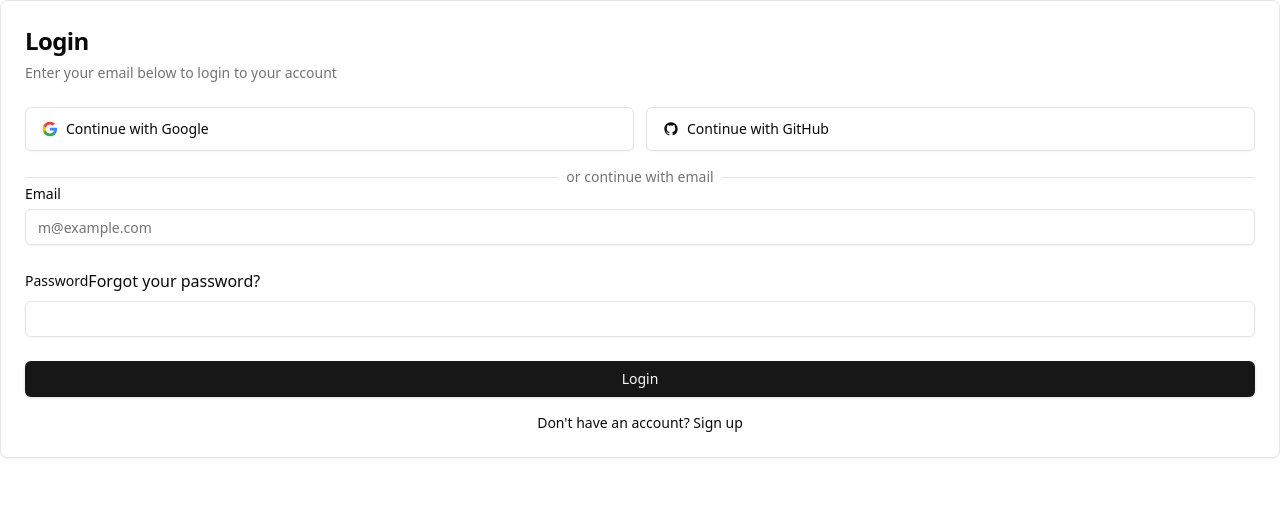
Scenario: LoginForm › shows generic error for non-Error exceptions
The width and height of the screenshot is (1280, 519).
In the field labelled "Email": (640, 227) [25,209,1255,245], type "user@example.com"
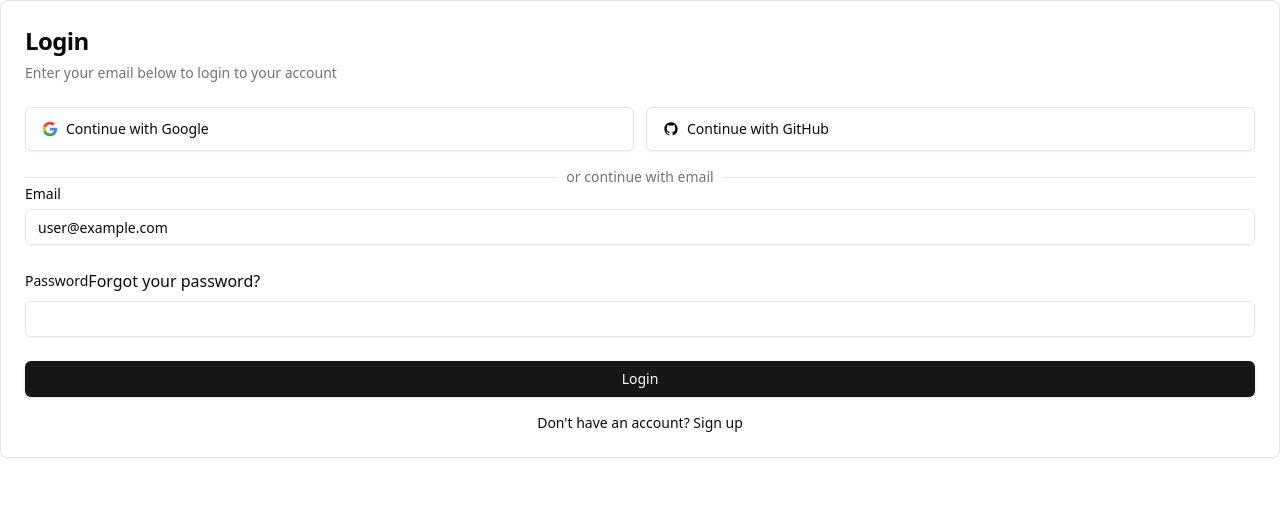
In the password field labelled "Password": (640, 319) [25,301,1255,337], type "password123"
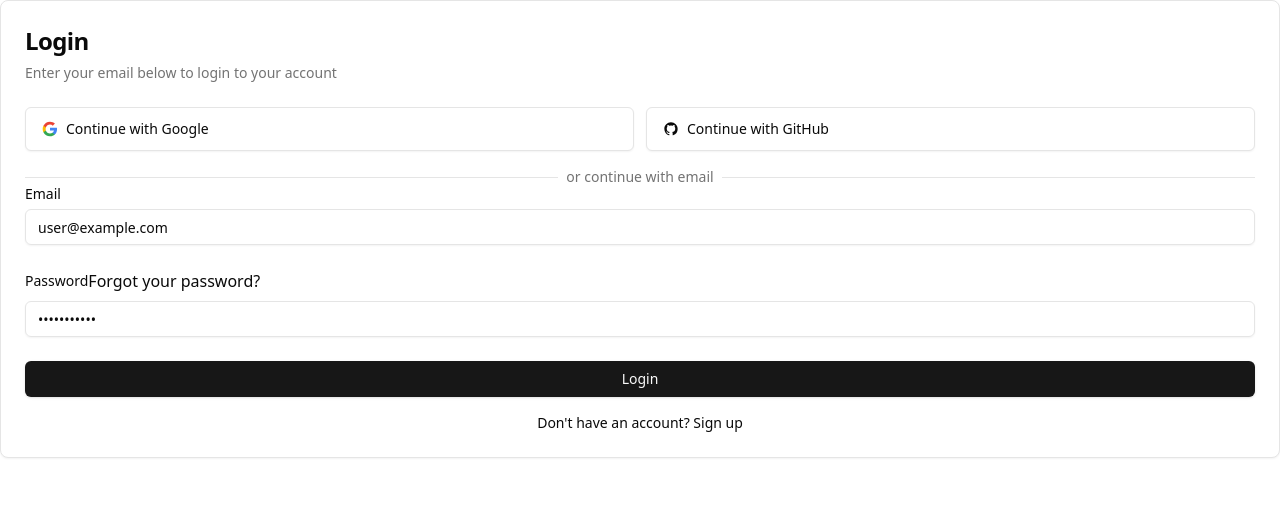
Click the button "Login": (640, 379) [25,361,1255,397]
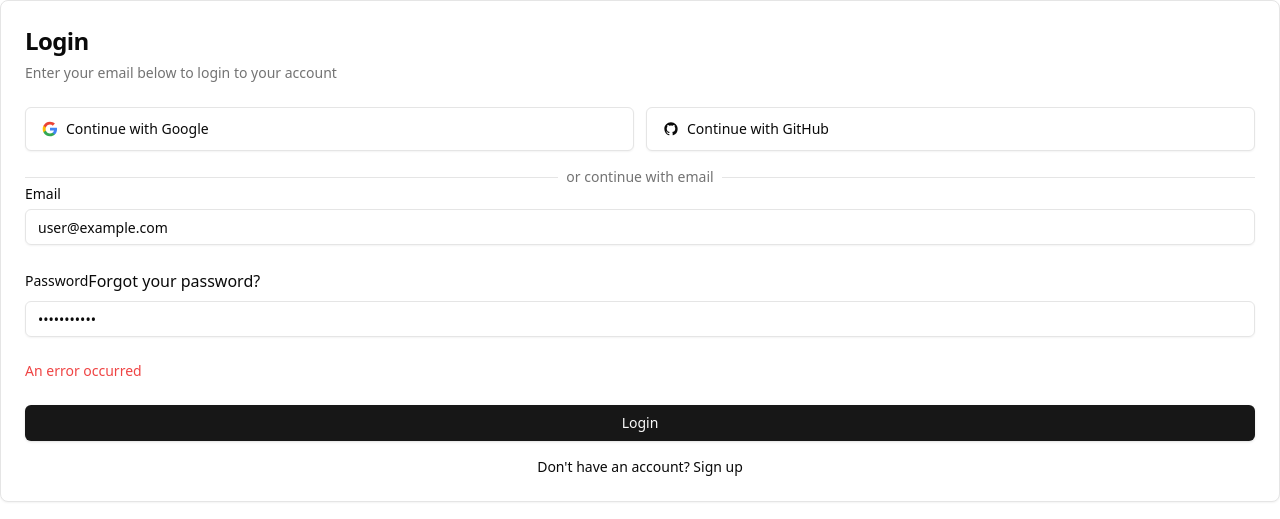
Check: the text "An error occurred" is shown, box [25,361,142,380]
